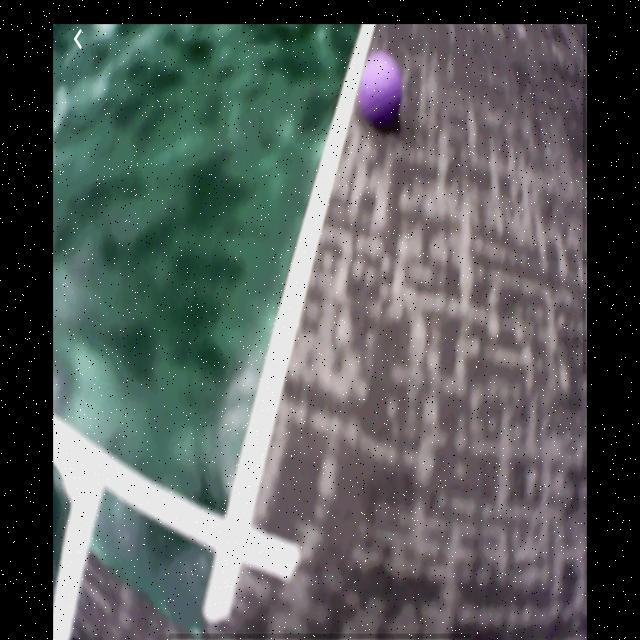ball: (357, 50, 404, 134)
